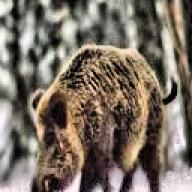boar: (27, 43, 177, 192)
